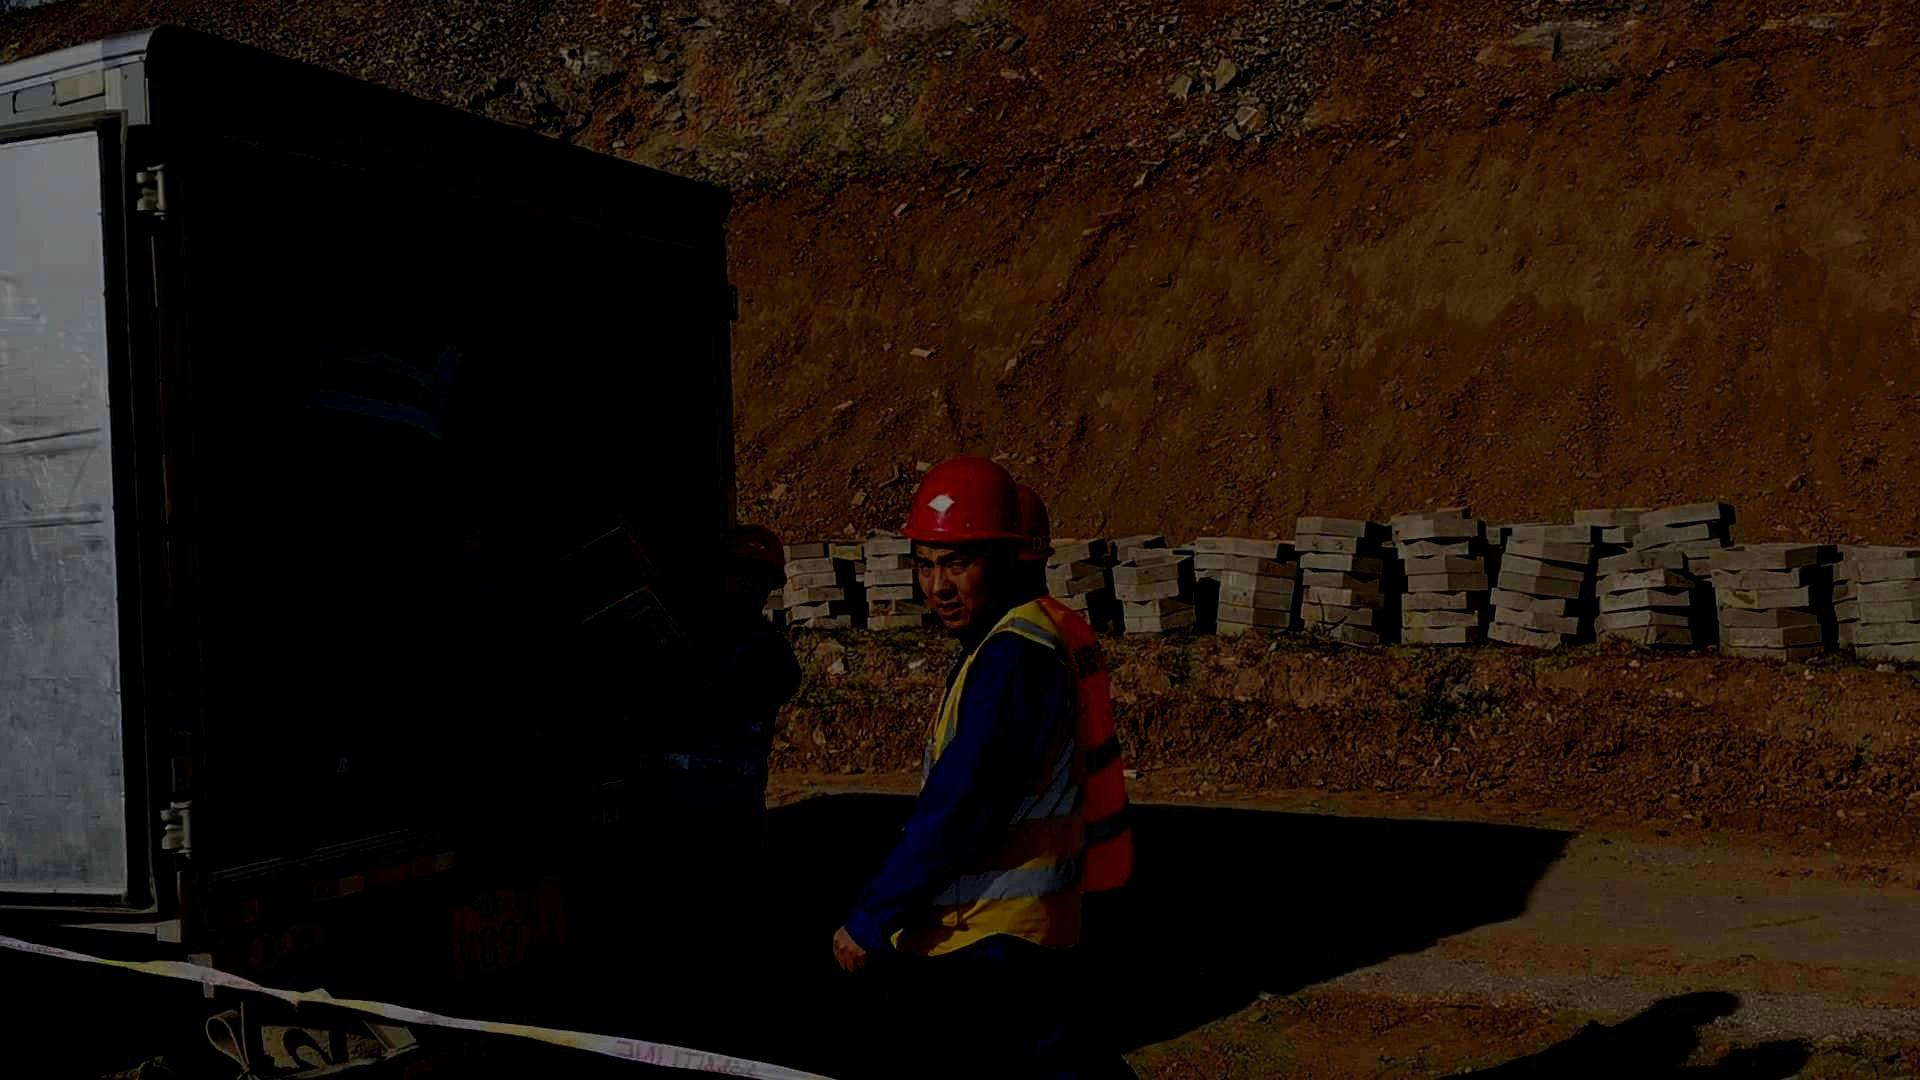helmet: (898, 451, 1029, 629), (1011, 481, 1058, 600), (735, 524, 789, 618)
